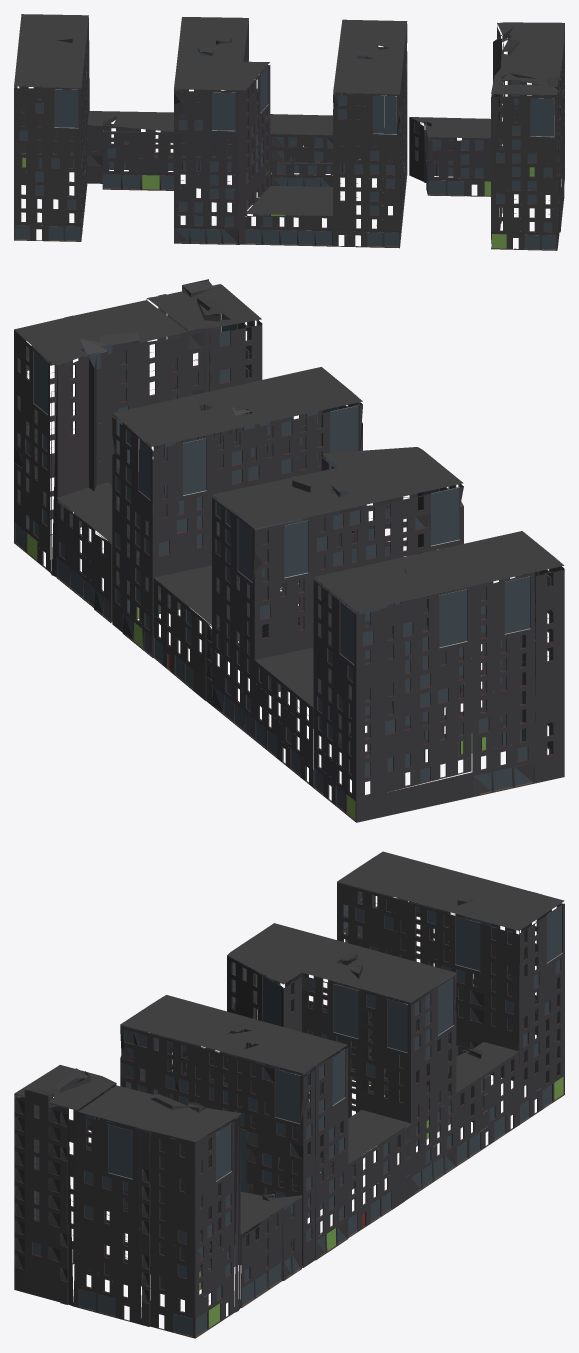
File: albatrospad-1.lod1.glb
The picture shows the model from 3 angles, top to bottom: view 1: azimuth 30°, elevation 25°; view 2: azimuth 150°, elevation 25°; view 3: azimuth 270°, elevation 25°; orthographic projection. The views are drawn at different scales.
Parts seen in each view (by area): view 1: albatrospad-1; view 2: albatrospad-1; view 3: albatrospad-1.
Part boxes in pixels (<box>): albatrospad-1: <box>14,14,564,250</box>; albatrospad-1: <box>14,279,564,822</box>; albatrospad-1: <box>14,851,564,1338</box>.
Size of the model in its own units: 106 by 34.46 by 84.08.
